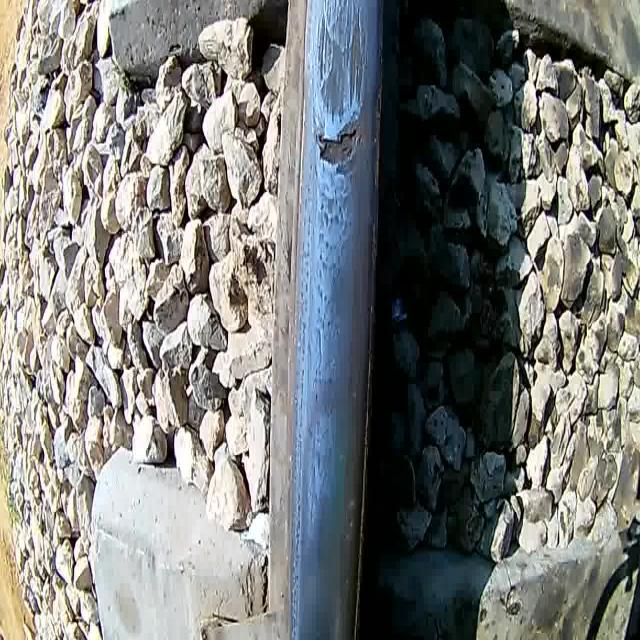Spallings: (312, 123, 366, 169)
Squats: (307, 0, 376, 181)
